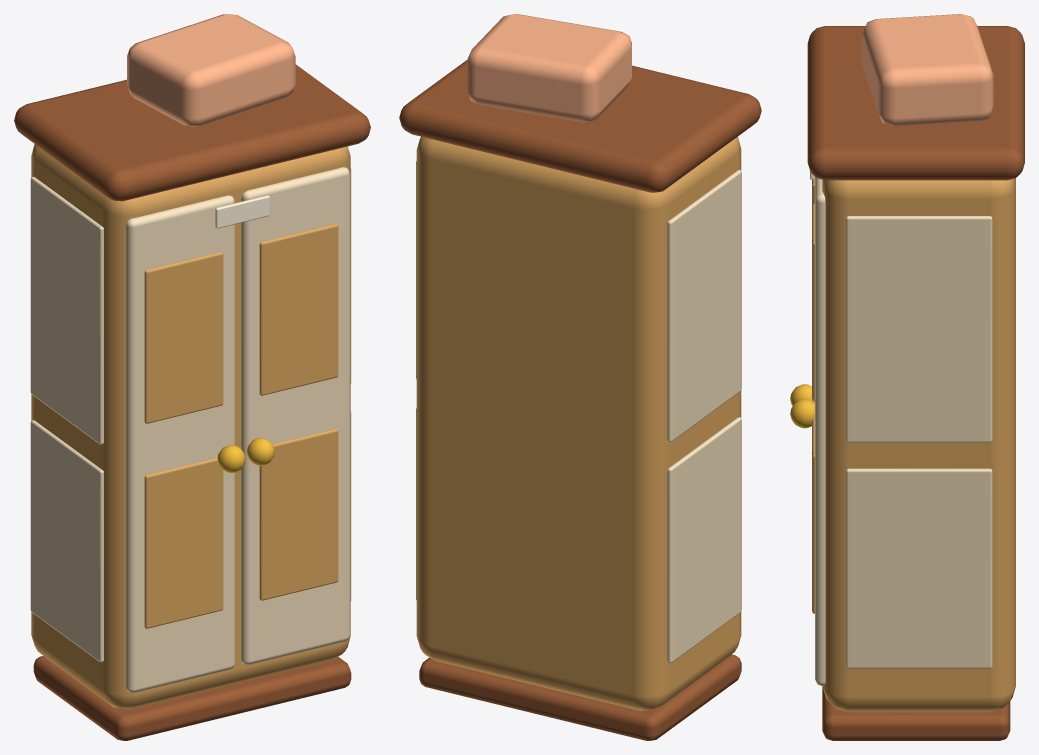
The model's file is locker.glb.
3 renders of one model, left to right at view 1: azimuth 30°, elevation 25°; view 2: azimuth 150°, elevation 25°; view 3: azimuth 270°, elevation 25°, orthographic. The views are drawn at different scales.
Visible parts, largest first — view 1: Body, Door-1, Door1, Crown, SidePanelHi-1, SidePanelLo-1, TopBox, DoorInset1, DoorInset-1, DoorInsetLo-1, DoorInsetLo1, Plinth (+3 smaller); view 2: Body, Crown, SidePanelHi-1, SidePanelLo-1, TopBox, Plinth; view 3: Body, SidePanelHi1, SidePanelLo1, Crown, TopBox, Plinth, Door1, Knob1, DoorInset1, DoorInsetLo1.
Part boxes in pixels (x1=…): Body: x1=31, y1=144, x2=350, y2=709; Door-1: x1=125, y1=195, x2=234, y2=692; Door1: x1=241, y1=167, x2=349, y2=664; Crown: x1=14, y1=64, x2=370, y2=201; SidePanelHi-1: x1=30, y1=177, x2=103, y2=444; SidePanelLo-1: x1=30, y1=420, x2=103, y2=662; TopBox: x1=127, y1=14, x2=295, y2=126; DoorInset1: x1=259, y1=223, x2=338, y2=395; DoorInset-1: x1=144, y1=252, x2=223, y2=423; DoorInsetLo-1: x1=144, y1=457, x2=223, y2=628; DoorInsetLo1: x1=259, y1=428, x2=338, y2=600; Plinth: x1=33, y1=656, x2=351, y2=740; Body: x1=416, y1=136, x2=741, y2=710; Crown: x1=399, y1=59, x2=761, y2=192; SidePanelHi-1: x1=667, y1=170, x2=741, y2=441; SidePanelLo-1: x1=667, y1=417, x2=741, y2=663; TopBox: x1=467, y1=14, x2=631, y2=122; Plinth: x1=419, y1=654, x2=741, y2=740; Body: x1=822, y1=178, x2=1015, y2=712; SidePanelHi1: x1=846, y1=216, x2=992, y2=442; SidePanelLo1: x1=846, y1=468, x2=992, y2=668; Crown: x1=807, y1=26, x2=1024, y2=180; TopBox: x1=862, y1=14, x2=993, y2=126; Plinth: x1=822, y1=686, x2=1010, y2=740; Door1: x1=815, y1=177, x2=825, y2=685; Knob1: x1=790, y1=399, x2=814, y2=428; DoorInset1: x1=812, y1=204, x2=814, y2=400; DoorInsetLo1: x1=812, y1=418, x2=814, y2=613.
Size of what is drawn, in the model's own units: 1.08 by 2.47 by 0.8.
